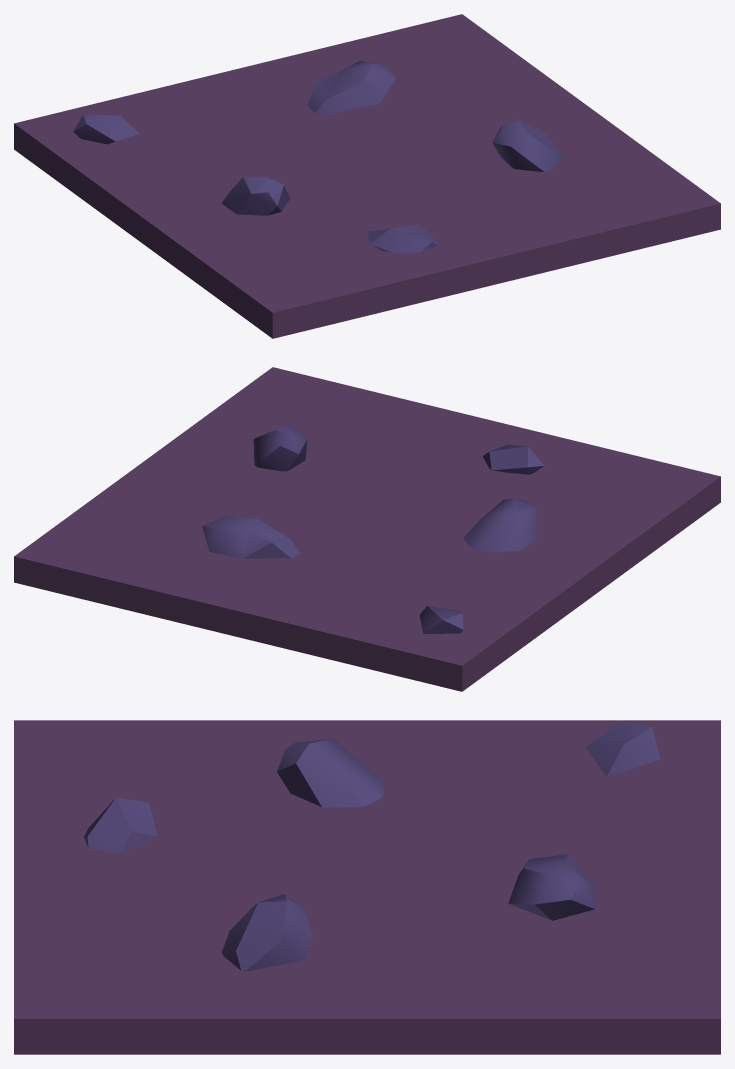
File: TileAsteroid.fbx
The picture shows the model from 3 angles, top to bottom: view 1: azimuth 30°, elevation 25°; view 2: azimuth 150°, elevation 25°; view 3: azimuth 270°, elevation 25°; orthographic projection. The views are drawn at different scales.
Visible parts, largest first — view 1: Tile-Nothing; view 2: Tile-Nothing; view 3: Tile-Nothing.
Boxes of the visible parts, x1,y1,x2,y2 form: Tile-Nothing: [14, 14, 720, 338]; Tile-Nothing: [14, 367, 720, 691]; Tile-Nothing: [14, 720, 720, 1054].
Bounding box in the file's own units: 200 × 26.35 × 200.
